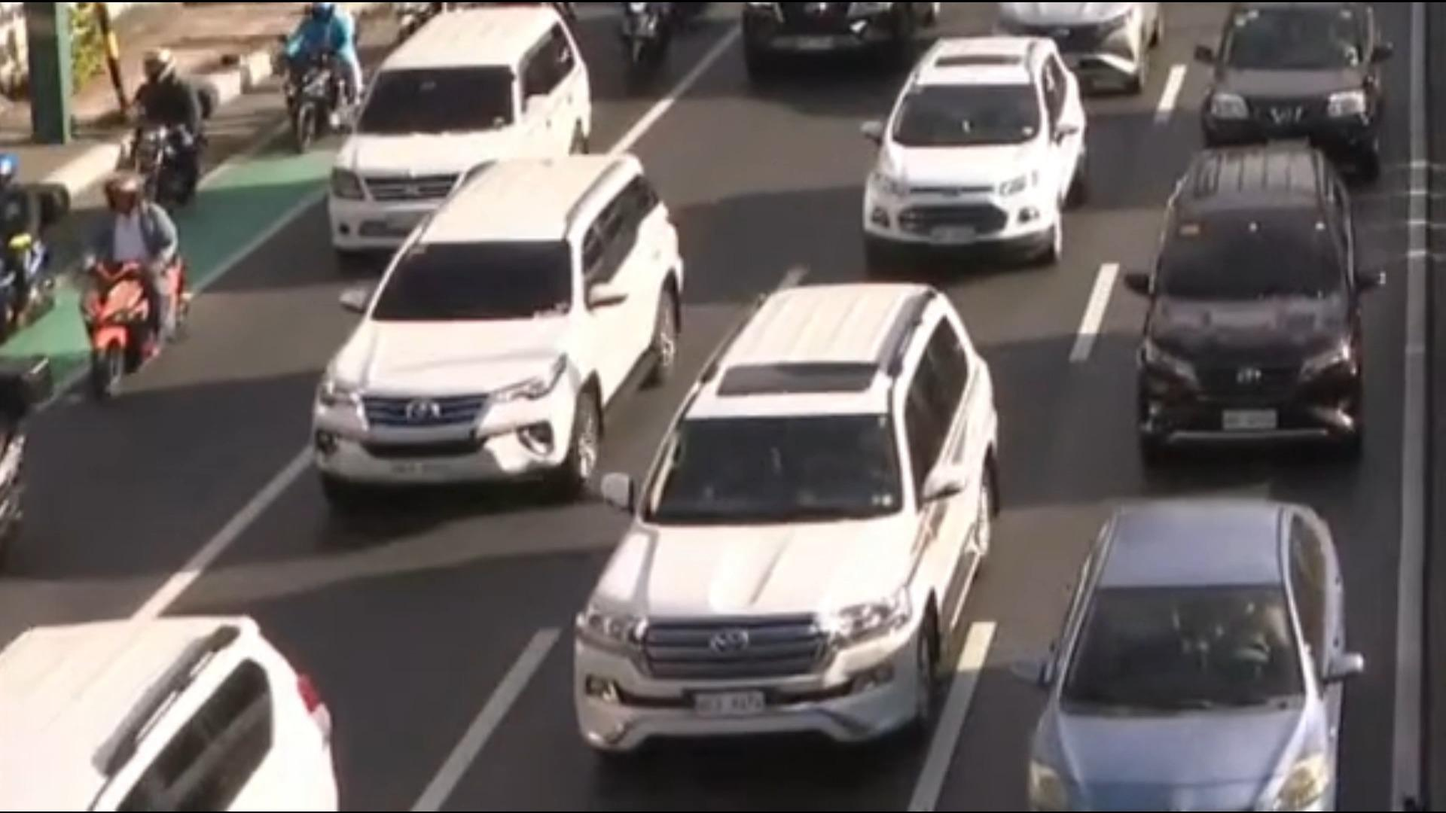Motorcycle: (82, 182, 189, 404), (129, 44, 217, 217), (279, 3, 356, 149)
SUV: (584, 290, 1000, 746), (314, 165, 685, 489), (1131, 141, 1371, 454), (335, 6, 598, 248)
Sedan: (1033, 495, 1346, 813), (875, 37, 1088, 242), (1201, 1, 1387, 167)
